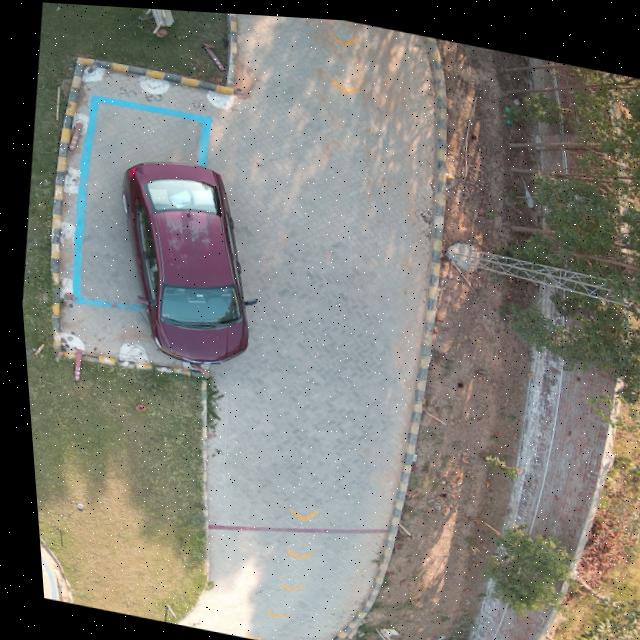car: (119, 160, 243, 362)
